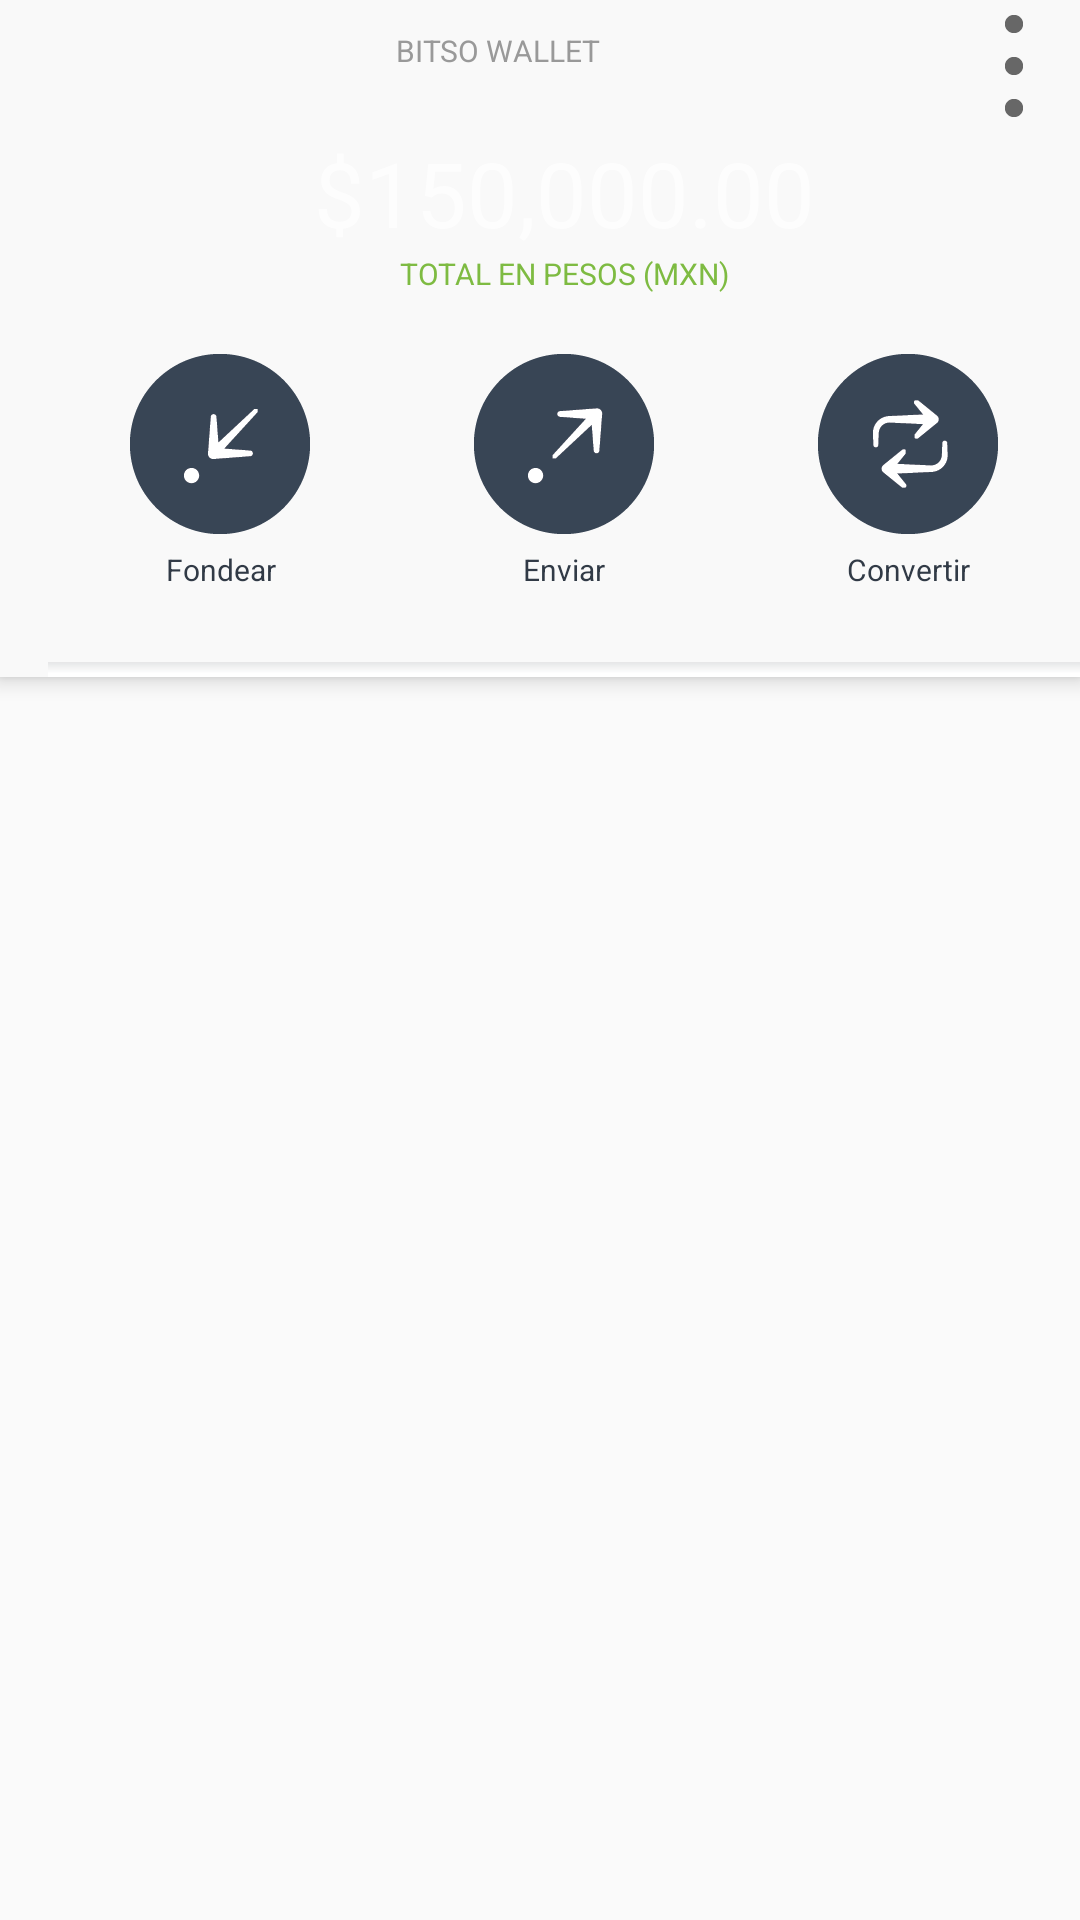

Screen size 1080 × 1920. Icon name, then its box in pixels as (x1, y1, x2, y2):
dots: (1005, 15, 1023, 117)
